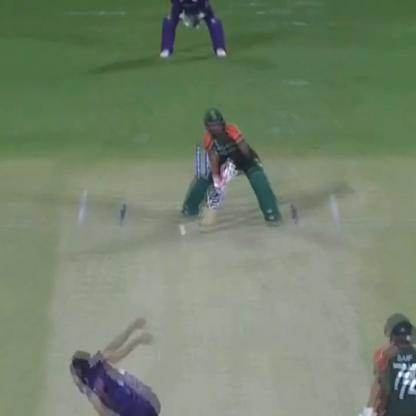ball: (174, 222, 192, 238)
bat: (197, 171, 231, 229)
pitch: (47, 194, 386, 416)
